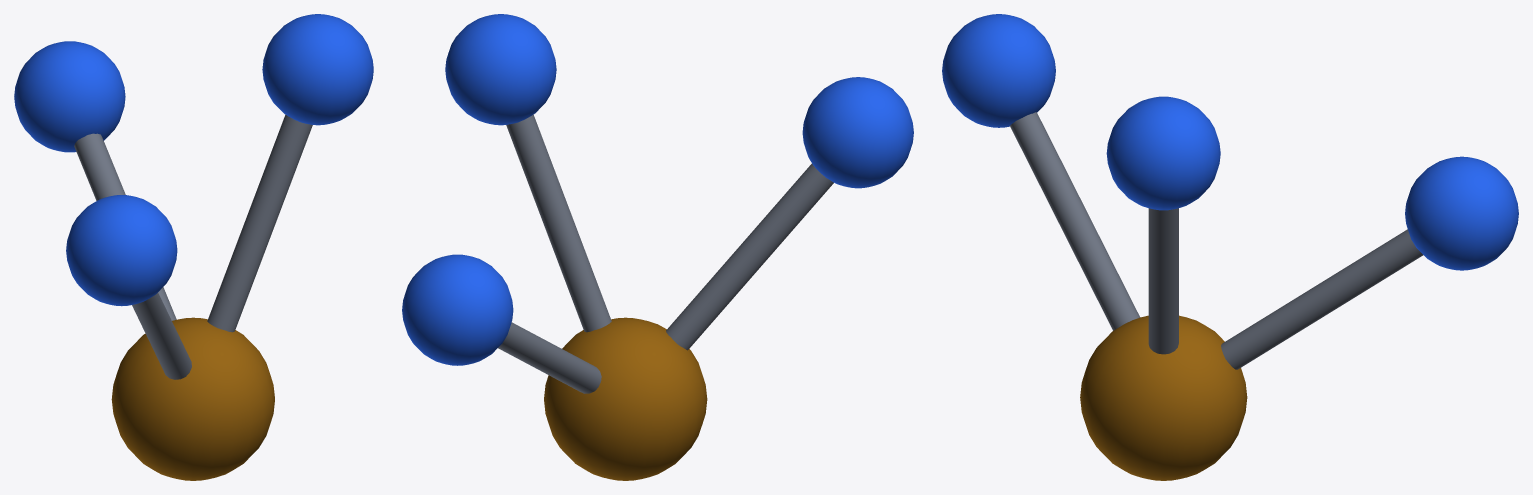
The picture shows the model from 3 angles, left to right: view 1: azimuth 30°, elevation 25°; view 2: azimuth 150°, elevation 25°; view 3: azimuth 270°, elevation 25°; orthographic projection. The views are drawn at different scales.
Parts seen in each view (by area): view 1: B1, H2, H1, H3, object 5, object 6, object 7; view 2: B1, H3, H2, H1, object 6, object 5, object 7; view 3: B1, H1, H3, H2, object 6, object 7, object 5.
Boxes of the visible parts, x1=… form: B1: x1=111, y1=317, x2=274, y2=480; H2: x1=66, y1=195, x2=177, y2=306; H1: x1=262, y1=14, x2=373, y2=125; H3: x1=14, y1=41, x2=125, y2=152; object 5: x1=207, y1=114, x2=312, y2=332; object 6: x1=132, y1=293, x2=191, y2=379; object 7: x1=74, y1=133, x2=176, y2=320; B1: x1=544, y1=317, x2=707, y2=480; H3: x1=402, y1=254, x2=513, y2=365; H2: x1=802, y1=77, x2=913, y2=188; H1: x1=445, y1=14, x2=556, y2=125; object 6: x1=666, y1=163, x2=833, y2=350; object 5: x1=506, y1=115, x2=611, y2=332; object 7: x1=498, y1=322, x2=601, y2=393; B1: x1=1080, y1=315, x2=1247, y2=480; H1: x1=1106, y1=96, x2=1220, y2=210; H3: x1=1405, y1=156, x2=1518, y2=270; H2: x1=942, y1=14, x2=1055, y2=127; object 6: x1=1010, y1=112, x2=1140, y2=330; object 7: x1=1221, y1=229, x2=1423, y2=369; object 5: x1=1148, y1=208, x2=1178, y2=354.
Size of the model in its own units: 0.2322 by 0.2518 by 0.3036.
